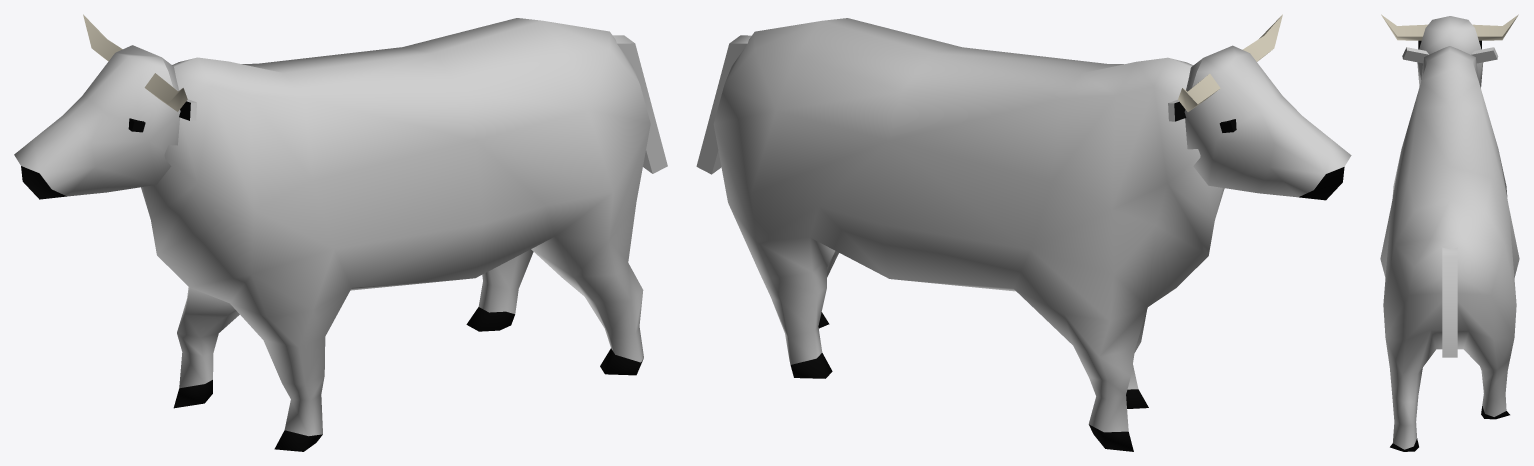
Rendered from bull.obj.
The picture shows the model from 3 angles, left to right: view 1: azimuth 30°, elevation 25°; view 2: azimuth 150°, elevation 25°; view 3: azimuth 270°, elevation 25°; orthographic projection. The views are drawn at different scales.
Parts seen in each view (by area): view 1: bull_Mesh1_bull1_Model; view 2: bull_Mesh1_bull1_Model; view 3: bull_Mesh1_bull1_Model.
Boxes of the visible parts, box(x1,y1,x2,y2) form: bull_Mesh1_bull1_Model: box(14, 14, 667, 451); bull_Mesh1_bull1_Model: box(696, 14, 1351, 451); bull_Mesh1_bull1_Model: box(1380, 14, 1519, 451).
Bounding box in the file's own units: 2.53 × 1.53 × 0.6909.
